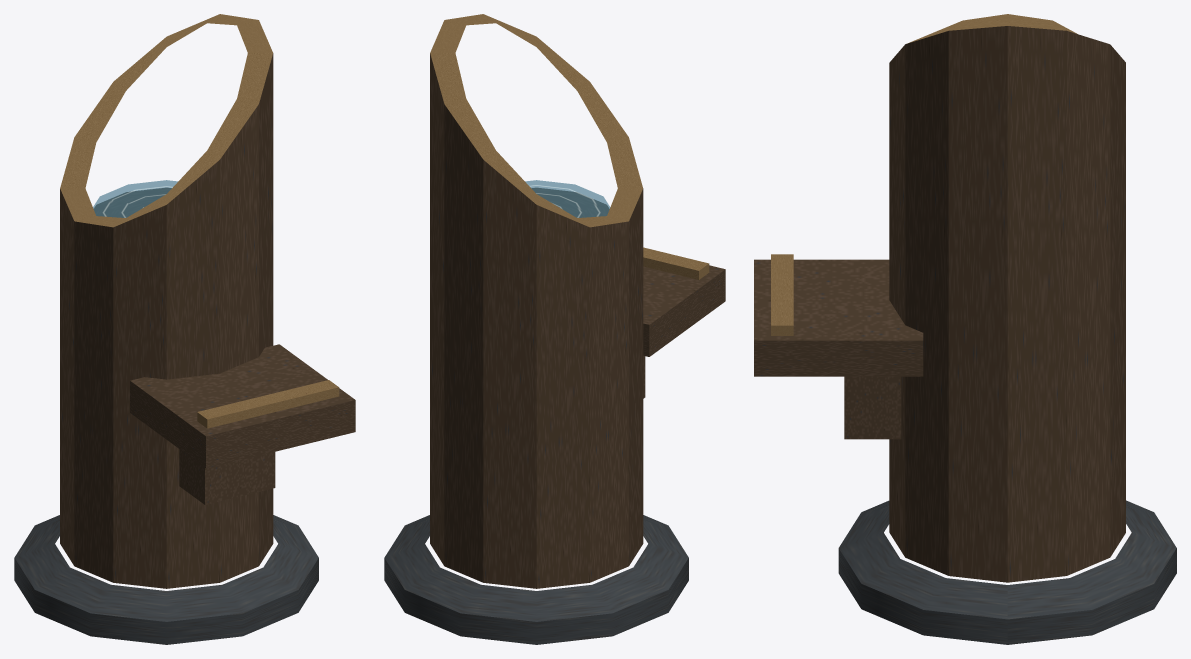
The model's file is brunnen_v8.glb.
3 renders of one model, left to right at view 1: azimuth 30°, elevation 25°; view 2: azimuth 150°, elevation 25°; view 3: azimuth 270°, elevation 25°, orthographic. The views are drawn at different scales.
Visible parts, largest first — view 1: V8; view 2: V8; view 3: V8.
Part boxes in pixels (x1,y1,x2,y2): V8: [14, 14, 355, 644]; V8: [384, 14, 725, 644]; V8: [754, 14, 1176, 644].
Bounding box in the file's own units: 0.6 × 1.17 × 0.75.
2 materials, 2 textured.
